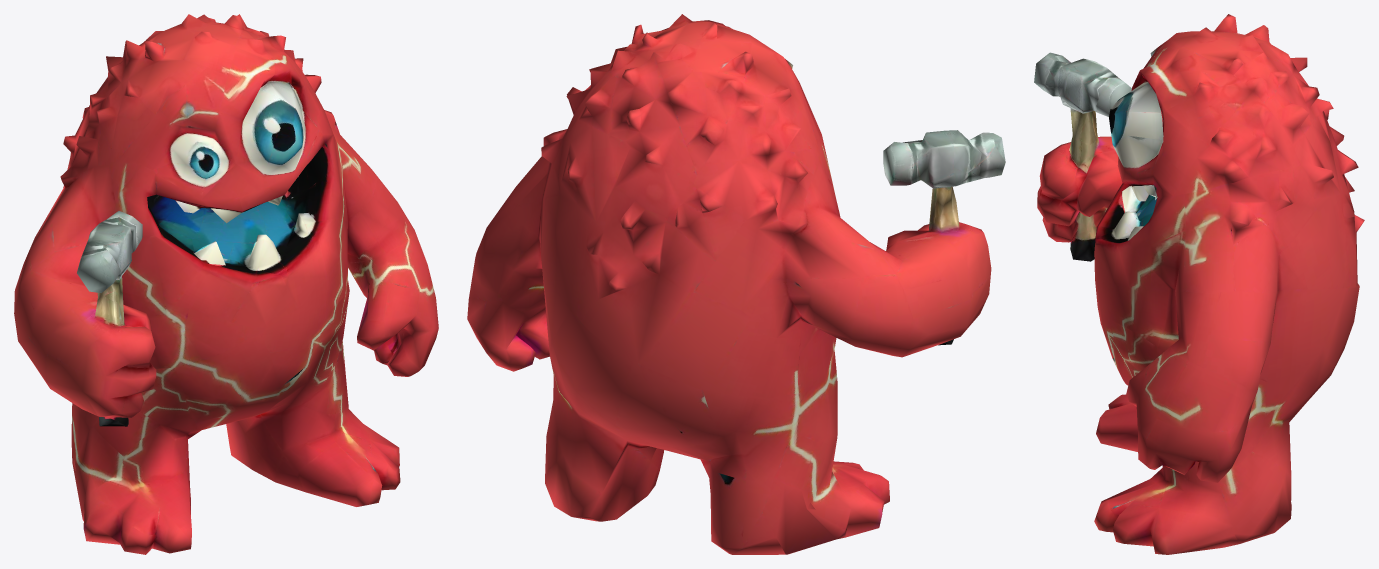
File: breaker.glb
3 views of the same model, side by side, from view 1: azimuth 30°, elevation 25°; view 2: azimuth 150°, elevation 25°; view 3: azimuth 270°, elevation 25° (orthographic). The views are drawn at different scales.
Size of the model in its own units: 1.82 by 1.89 by 1.26.
1 material, 1 textured.
